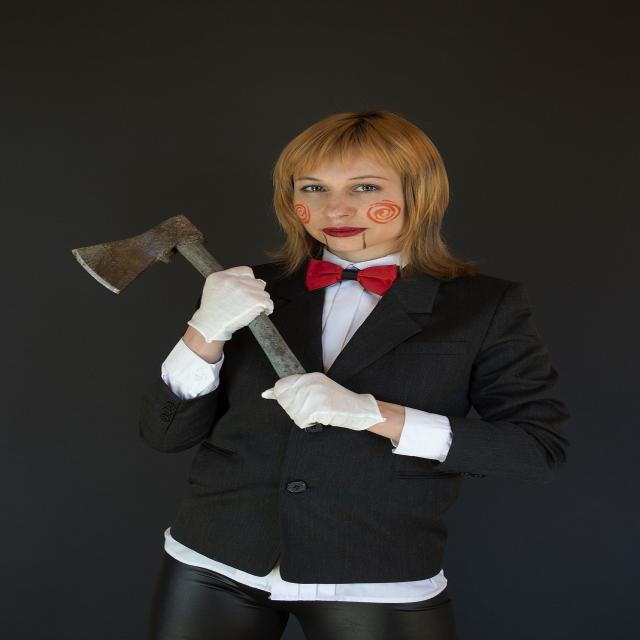Axe: (72, 215, 224, 293), (250, 315, 304, 377)
